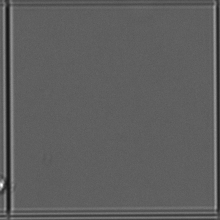Living Cell: (1, 175, 7, 194)
